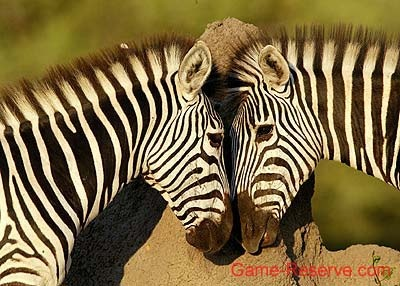zebra: (1, 32, 232, 285), (222, 24, 400, 254)
